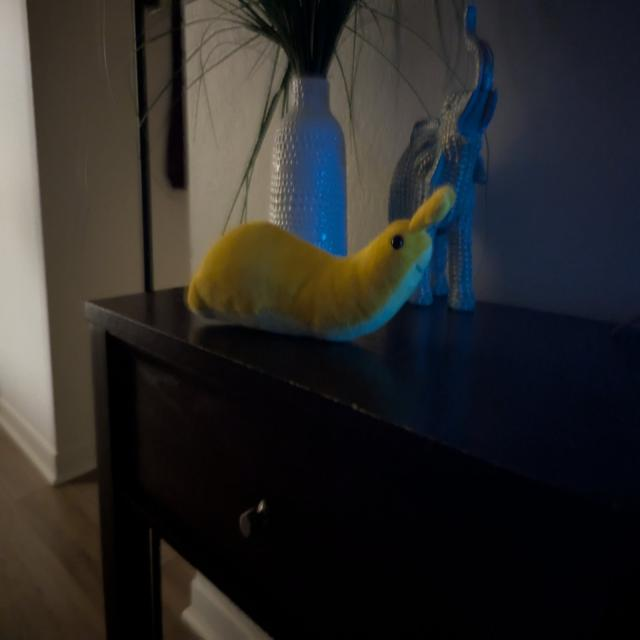banana-slug-toy: (169, 185, 477, 358)
